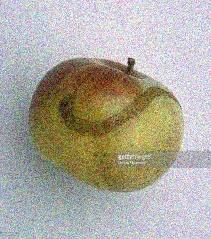rotten apple: (25, 52, 190, 194)
